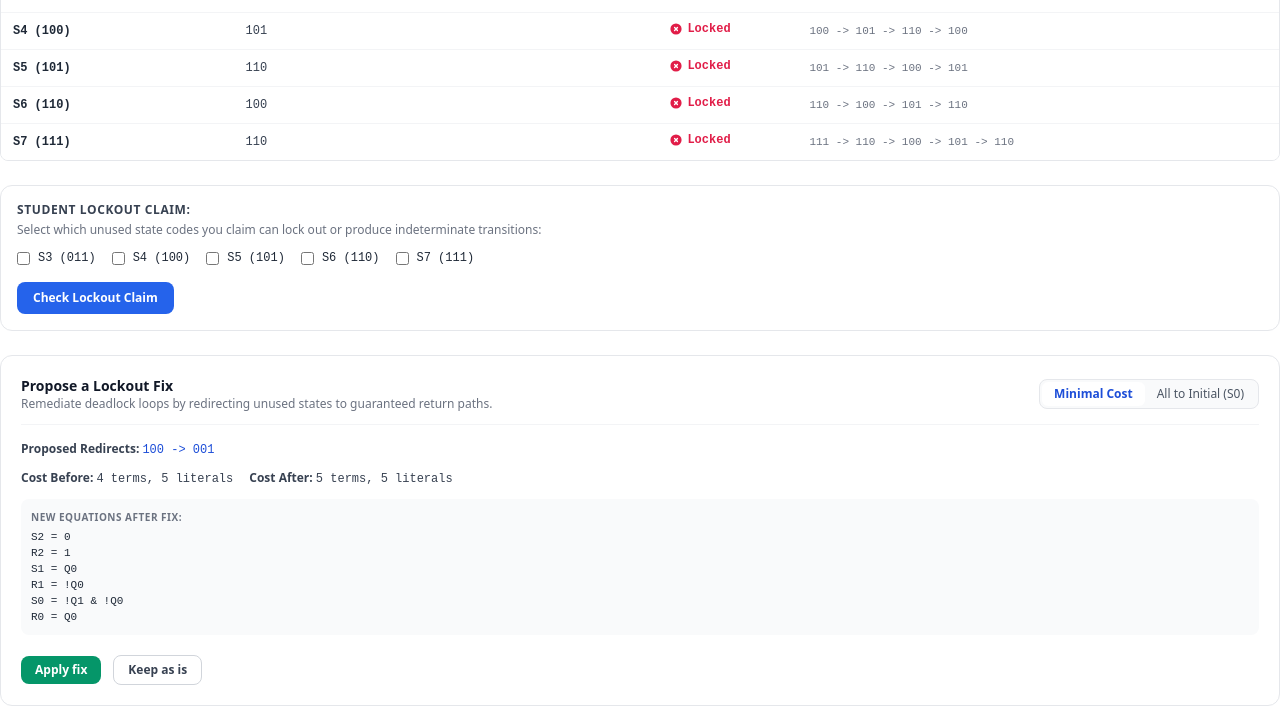
Test: LockoutCheck component › applying the fix re-derives the design and confirms resolution
The width and height of the screenshot is (1280, 706).
(page scrolled)
Note: Propose fix panel has "Apply fix" button
Click the button "Apply fix".
click(61, 670)  # box [21,656,101,684]
(page scrolled)
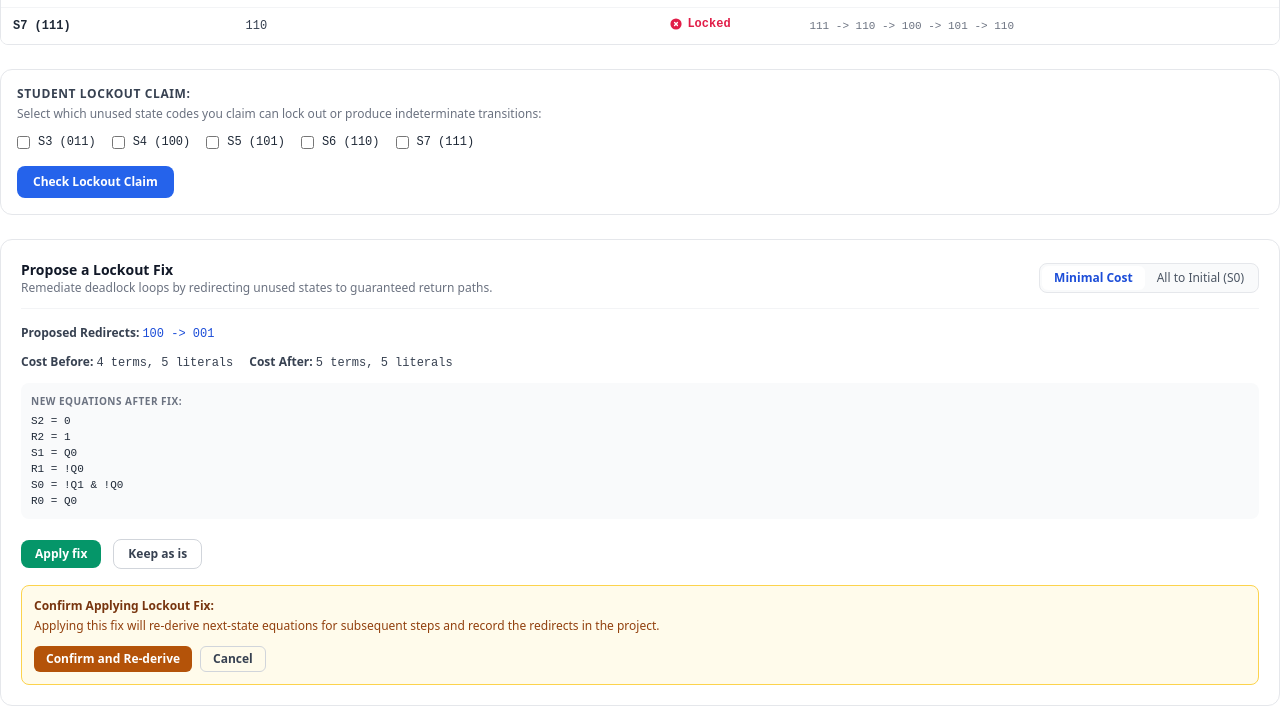
Expected: the text "Confirm Applying Lockout Fix:" is shown, [34,597,214,614]
Click the button "Confirm and Re-derive".
click(113, 659)  # box [34,646,192,672]
(page scrolled)
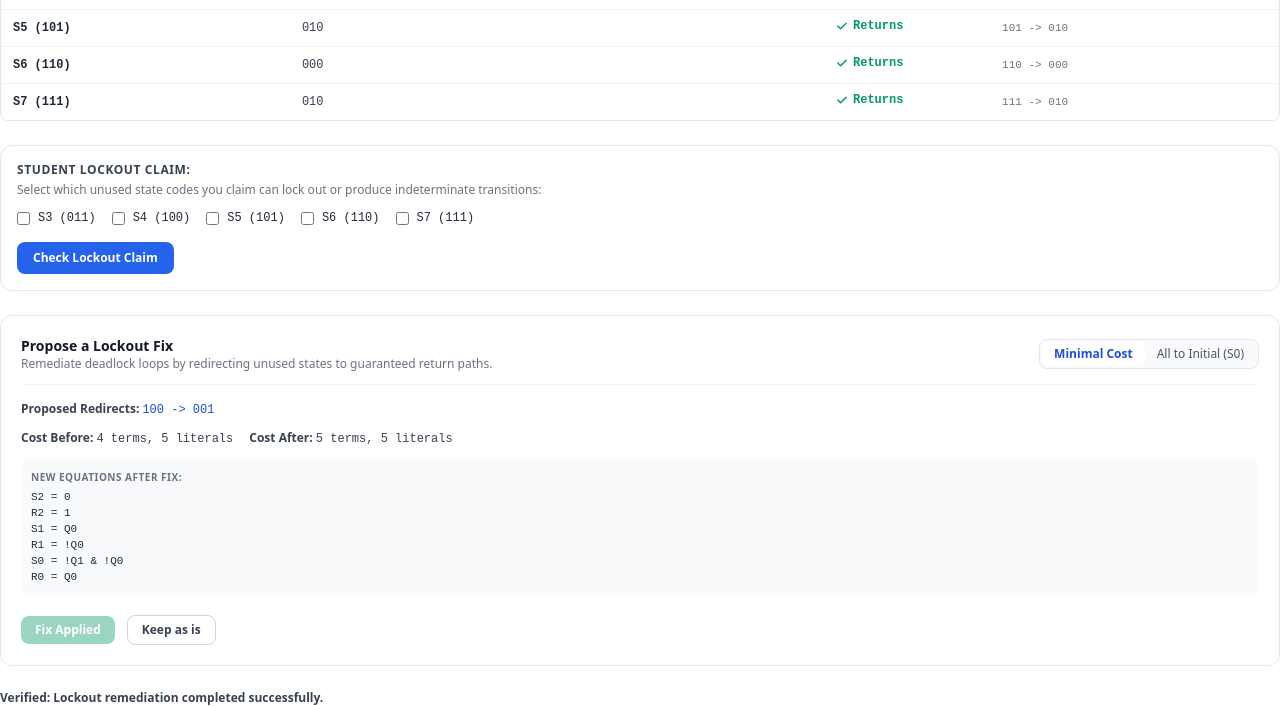
Expected: the button "Fix Applied" is shown, [21,616,115,644]
